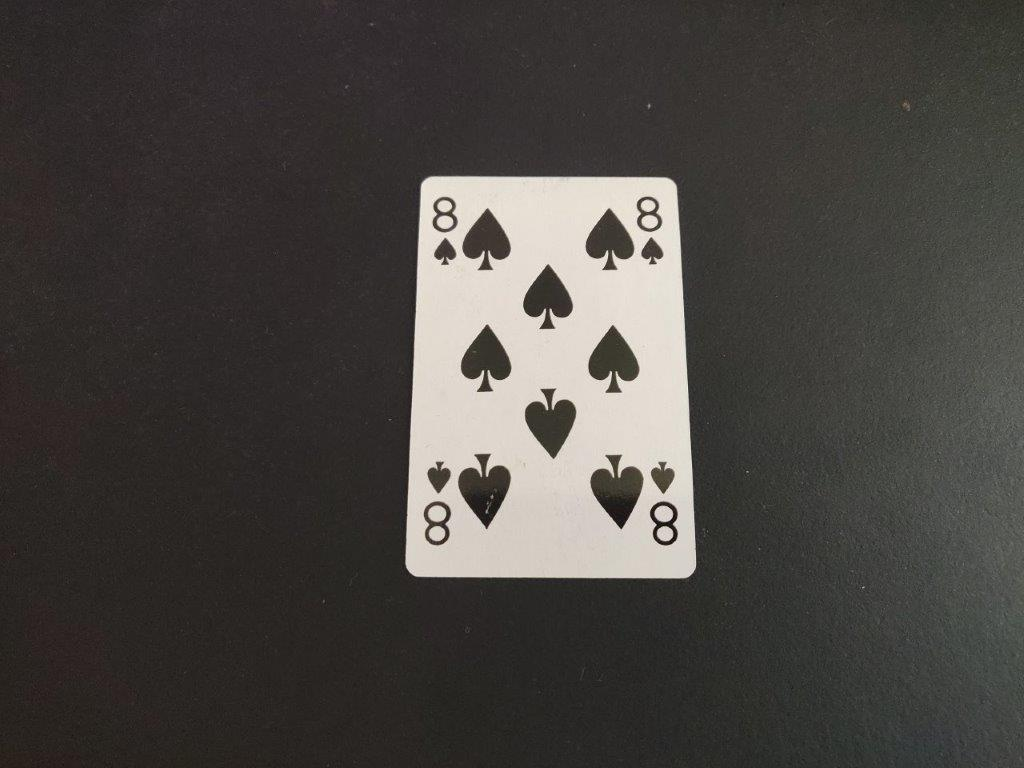8S: (426, 192, 463, 274), (634, 192, 670, 272)
